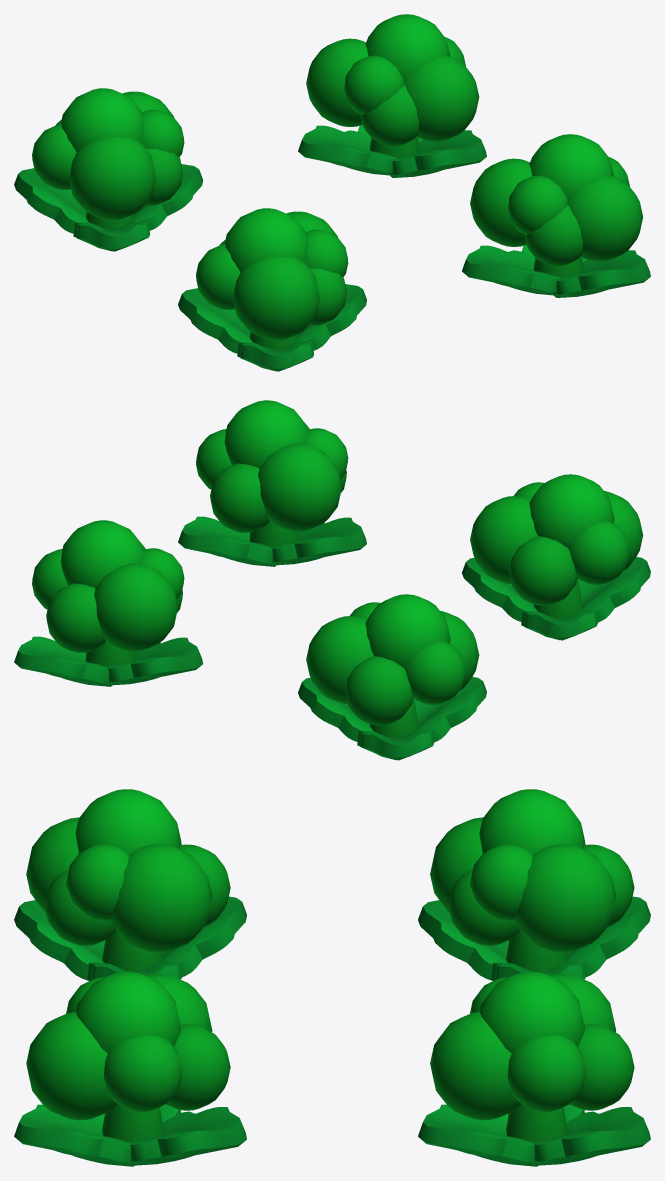
The model's file is Farm_Crop_Broccoli_Step_03.fbx.
The picture shows the model from 3 angles, top to bottom: view 1: azimuth 30°, elevation 25°; view 2: azimuth 150°, elevation 25°; view 3: azimuth 270°, elevation 25°; orthographic projection. The views are drawn at different scales.
Parts seen in each view (by area): view 1: Farm_Crop_Broccoli_Step_03; view 2: Farm_Crop_Broccoli_Step_03; view 3: Farm_Crop_Broccoli_Step_03.
Boxes of the visible parts, x1=… form: Farm_Crop_Broccoli_Step_03: x1=14, y1=14, x2=650, y2=371; Farm_Crop_Broccoli_Step_03: x1=14, y1=400, x2=650, y2=760; Farm_Crop_Broccoli_Step_03: x1=14, y1=789, x2=650, y2=1166.
Bounding box in the file's own units: 150 × 52.73 × 158.
